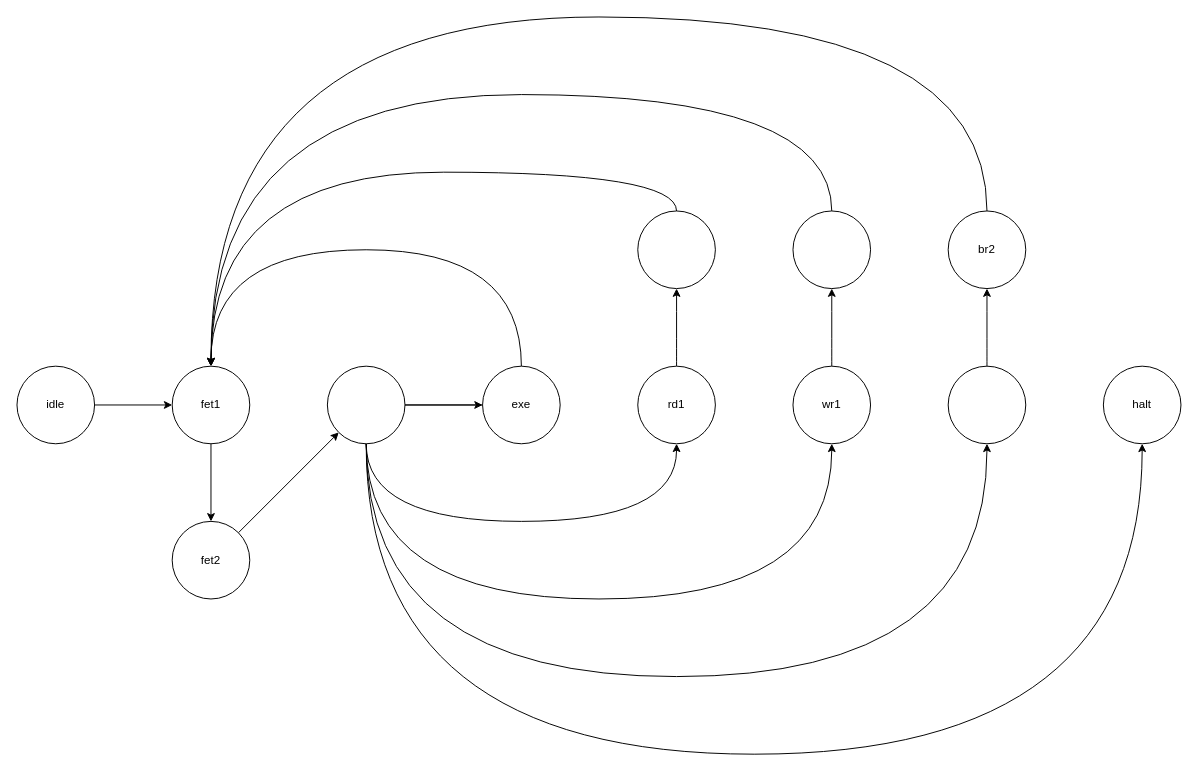
Some shapes in this 1198 by 771 pixel diagram are drawn without their labels. Each missing label, with the box of its shape:
br1: (947, 365, 1026, 444)
dec: (326, 365, 405, 444)
rd2: (637, 210, 715, 289)
wr2: (792, 210, 871, 289)
